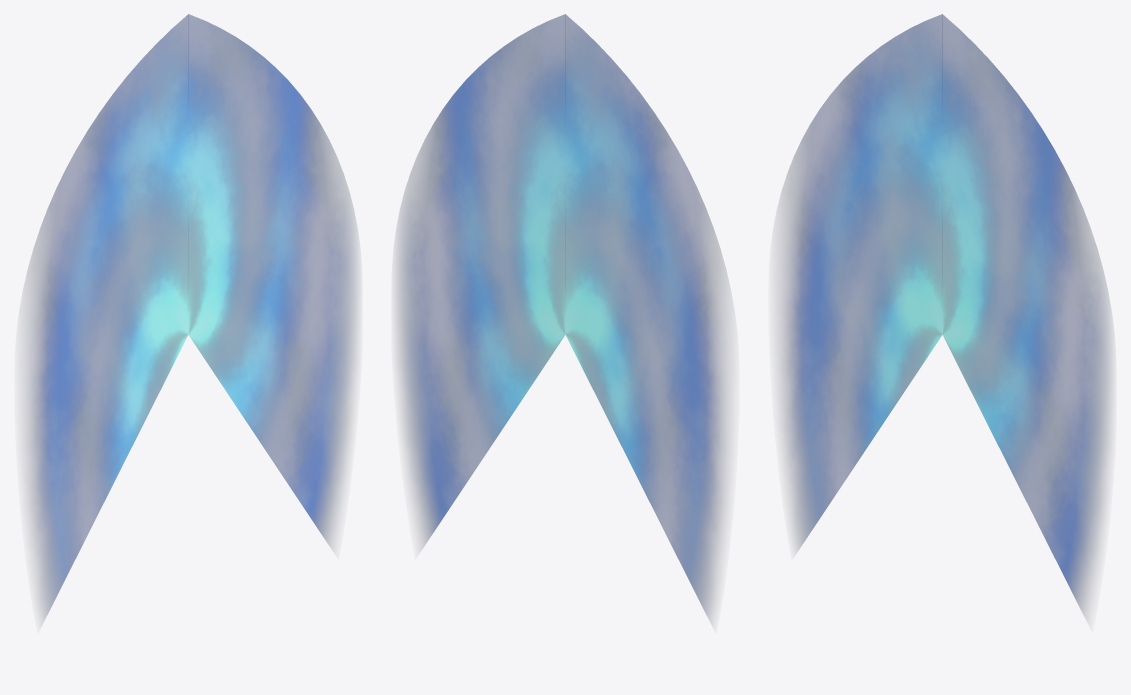
Rendered from SM_dw_portal_glow.glb.
The picture shows the model from 3 angles, left to right: view 1: azimuth 30°, elevation 25°; view 2: azimuth 150°, elevation 25°; view 3: azimuth 330°, elevation 25°; orthographic projection.
Parts seen in each view (by area): view 1: SM_dw_portal_glow; view 2: SM_dw_portal_glow; view 3: SM_dw_portal_glow.
Part boxes in pixels (x1,y1,x2,y2): SM_dw_portal_glow: (25,14,357,621); SM_dw_portal_glow: (396,14,728,621); SM_dw_portal_glow: (779,14,1111,616).
Size of the model in its own units: 6.96 by 11.93 by 0.
1 material, 1 textured.
